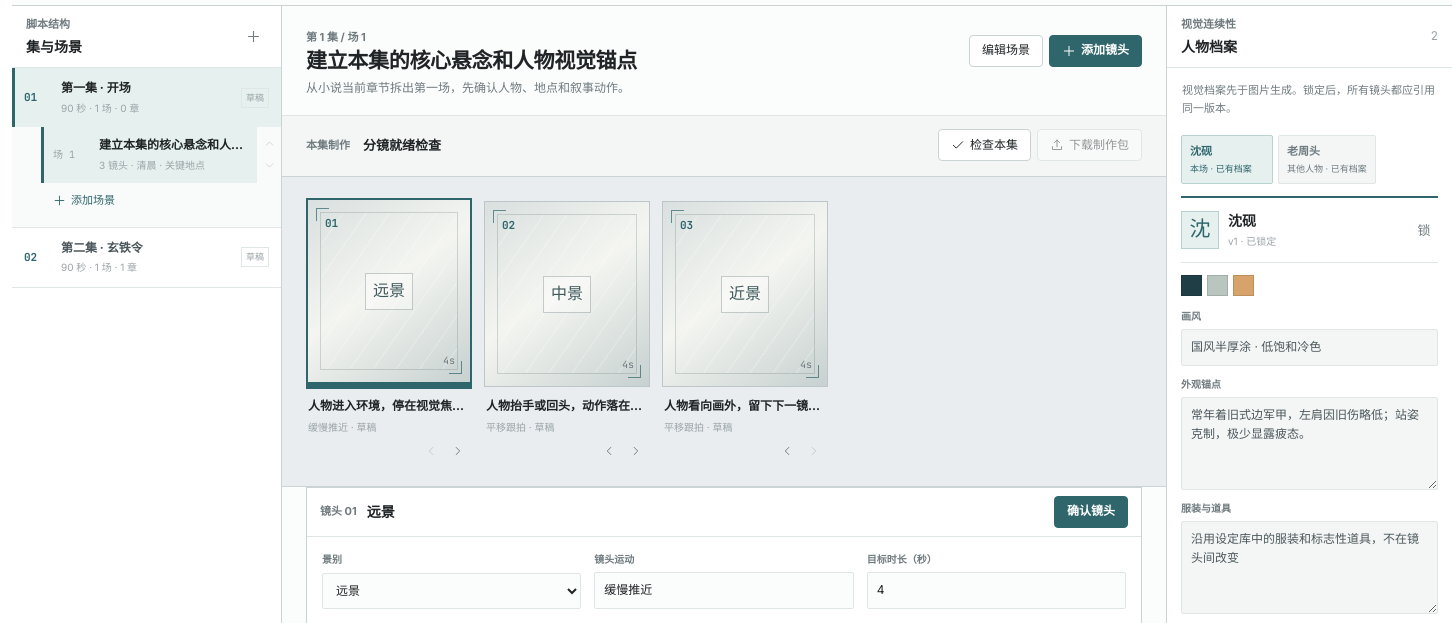
it: storyboard static editing workflow › shows actionable readiness issues and requires a fresh check after editing
Click the button "检查本集" at (984, 146), box top-left (938, 130), bottom-right (1031, 162)
(page scrolled)
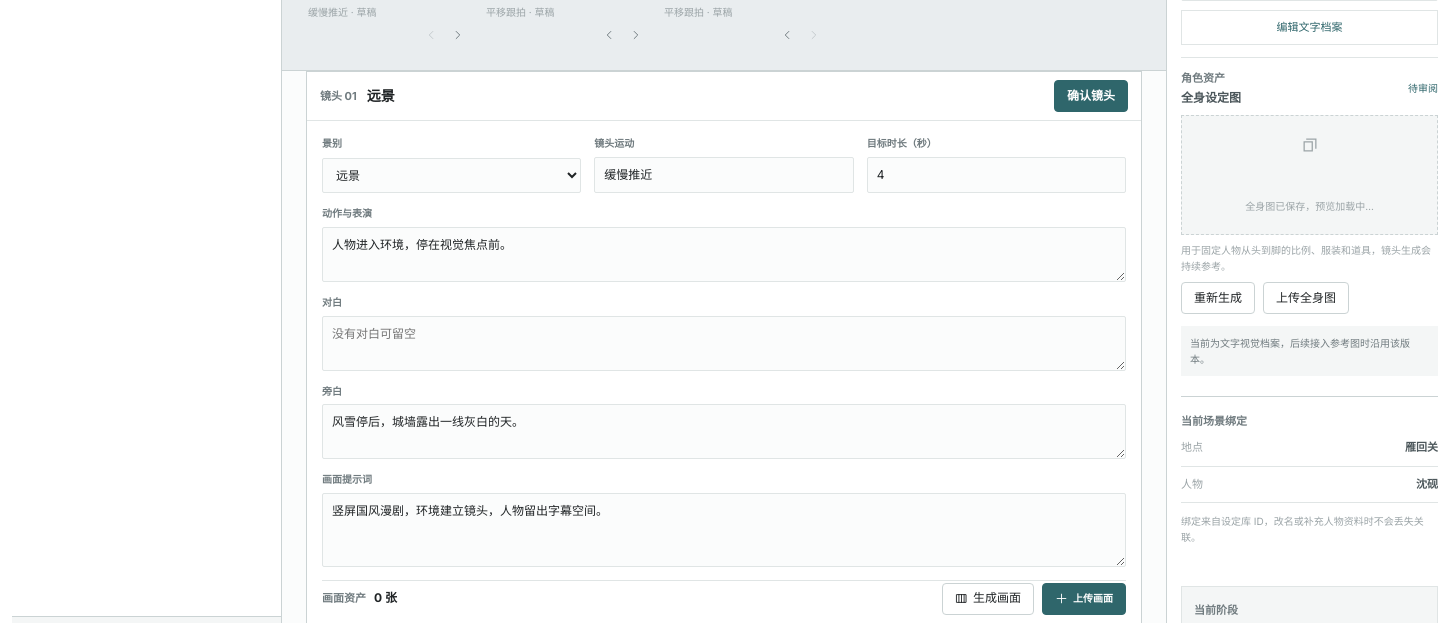
Replace the text in the text box labelled "画面提示词" with "新的画面锚点" at (724, 530), box top-left (322, 493), bottom-right (1126, 567)
(page scrolled)
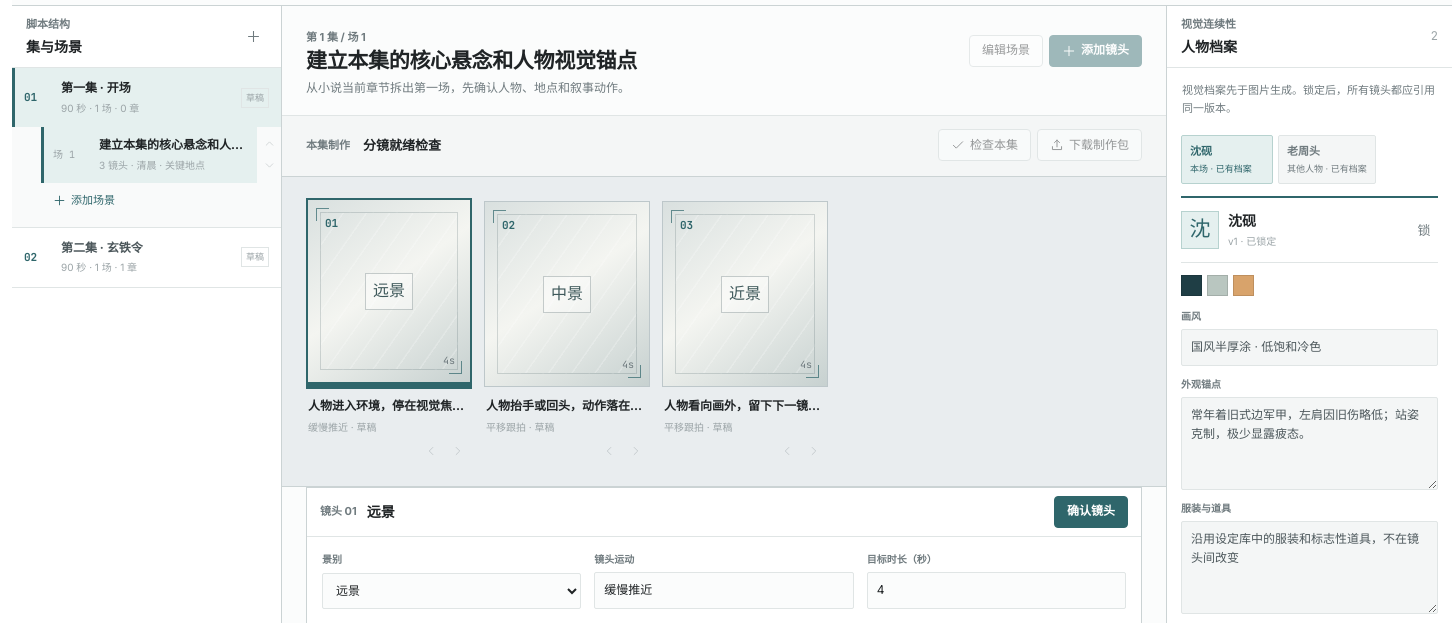
Check: the button "下载制作包" is disabled, box top-left (1037, 130), bottom-right (1142, 162)
